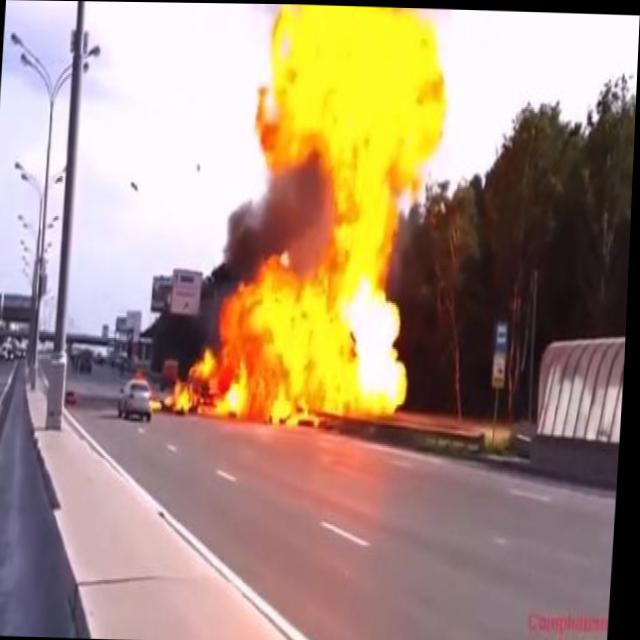fire: (166, 2, 460, 430)
